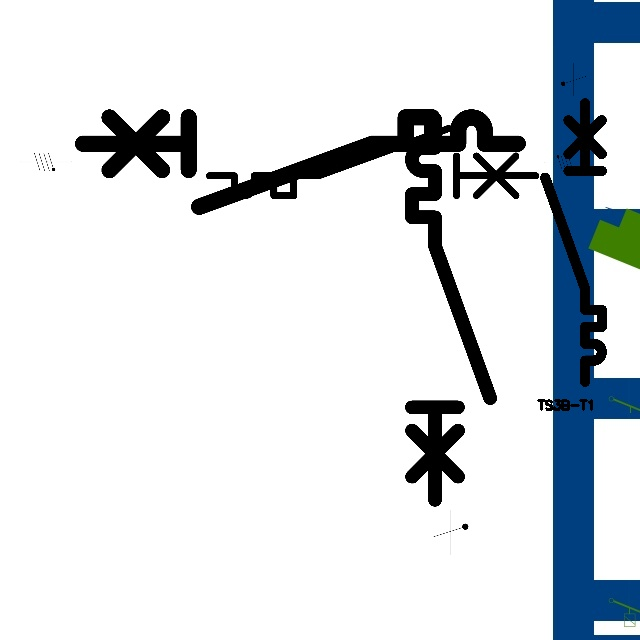interruptor_termomagnetico: (71, 106, 528, 218), (402, 109, 500, 510), (201, 120, 544, 204), (538, 96, 609, 389)
